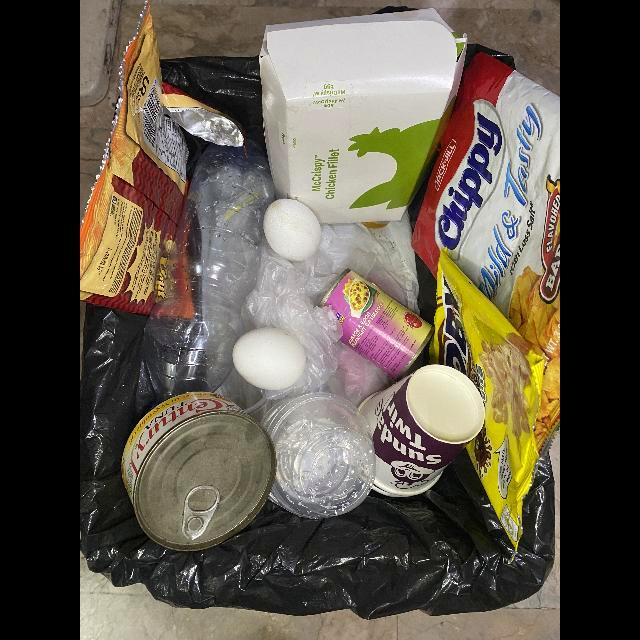aluminum: (120, 390, 276, 550), (321, 266, 436, 379)
cardboard: (259, 6, 467, 225), (363, 365, 486, 497)
food_wrapper: (410, 49, 560, 466), (82, 0, 244, 319), (430, 249, 548, 552)
plastic_bag: (239, 238, 345, 422)
plastic_bottle: (141, 137, 276, 398), (264, 390, 376, 520)
